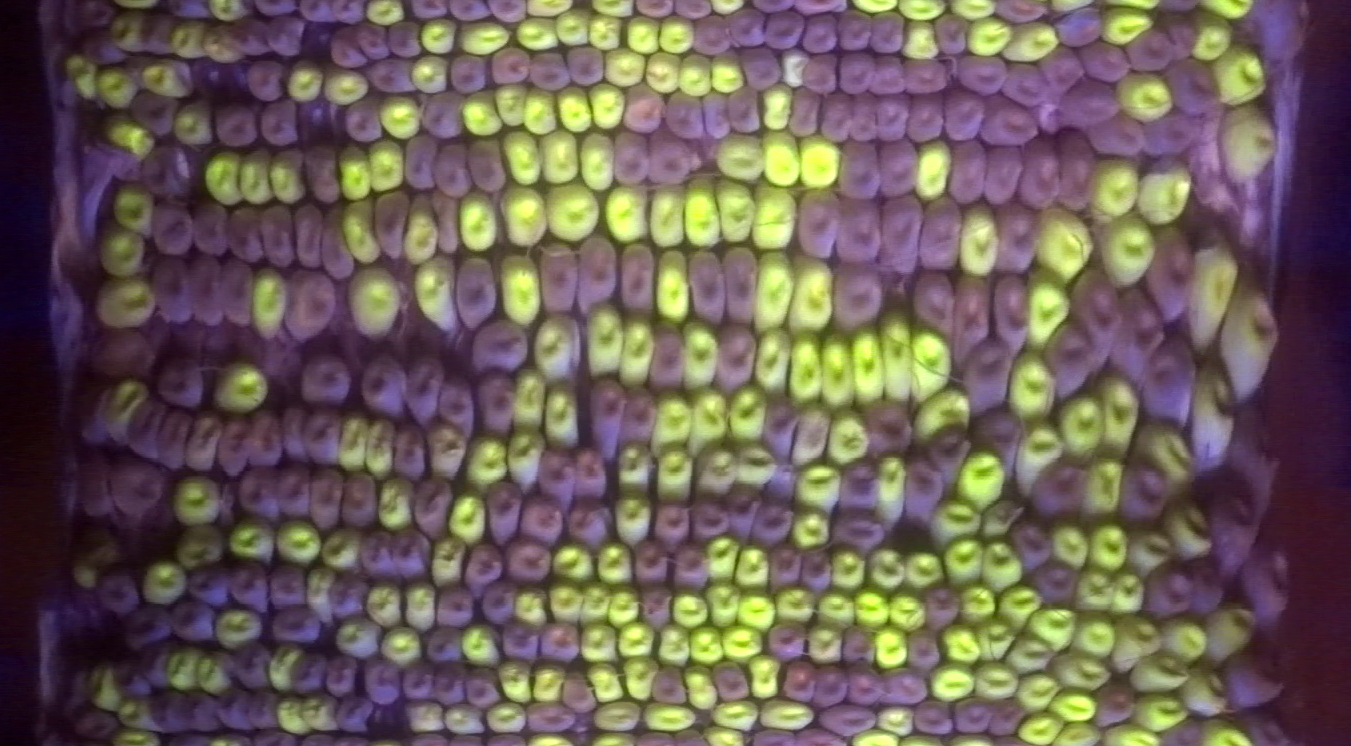fluorescent: (1189, 234, 1235, 351), (1232, 289, 1276, 403), (1038, 207, 1088, 283), (1194, 371, 1235, 461), (348, 266, 397, 337), (1140, 159, 1193, 222), (1227, 110, 1273, 181), (1106, 218, 1152, 288), (413, 260, 457, 332), (1098, 376, 1136, 457), (1009, 356, 1056, 416), (71, 530, 121, 586), (1027, 270, 1061, 350), (796, 254, 830, 334), (1147, 427, 1194, 483), (535, 315, 576, 379), (500, 255, 539, 322), (218, 364, 267, 416), (548, 190, 599, 239), (1019, 428, 1058, 492), (1061, 399, 1104, 457), (1113, 616, 1160, 669), (499, 191, 545, 245), (1115, 74, 1170, 119), (913, 392, 970, 435), (1206, 608, 1256, 657), (1216, 51, 1263, 103), (99, 282, 153, 327), (756, 182, 793, 247), (1166, 506, 1213, 557), (587, 304, 620, 376), (913, 333, 951, 395), (884, 318, 912, 401), (959, 457, 1007, 505), (650, 392, 688, 452), (683, 321, 716, 390), (851, 334, 884, 403), (1096, 159, 1136, 215), (683, 178, 715, 247), (99, 226, 142, 276), (759, 255, 788, 329), (960, 206, 992, 272), (789, 337, 821, 402), (173, 480, 222, 522), (342, 205, 379, 260), (660, 251, 689, 321), (764, 131, 798, 190), (719, 136, 764, 180), (822, 341, 852, 407), (108, 379, 144, 434), (933, 502, 978, 546), (114, 187, 155, 235), (365, 140, 402, 193), (828, 414, 867, 464), (1183, 671, 1233, 710), (545, 387, 578, 445), (801, 133, 837, 186), (255, 268, 283, 336), (607, 189, 645, 239), (504, 131, 539, 185), (877, 456, 904, 526), (755, 333, 788, 390), (731, 388, 764, 445), (1128, 659, 1185, 692), (460, 196, 494, 251), (652, 188, 684, 246), (983, 540, 1023, 586), (582, 132, 614, 189), (405, 203, 437, 260), (1104, 8, 1153, 45), (799, 469, 842, 511), (719, 183, 751, 239), (1086, 461, 1118, 517), (544, 133, 579, 184), (916, 144, 949, 198), (277, 520, 321, 560), (103, 113, 145, 154), (339, 147, 371, 200), (1006, 24, 1053, 60), (692, 394, 725, 445), (208, 153, 243, 201), (623, 317, 648, 384), (377, 481, 413, 527), (323, 64, 365, 103), (1163, 622, 1205, 661), (1030, 611, 1073, 649), (660, 449, 692, 500), (1133, 698, 1187, 728), (508, 436, 539, 488), (516, 371, 542, 432), (967, 20, 1011, 56), (144, 64, 192, 97), (271, 151, 302, 202), (337, 615, 375, 656), (1193, 16, 1230, 58), (682, 667, 719, 709), (237, 520, 273, 563), (739, 589, 775, 632), (620, 444, 652, 492), (243, 154, 273, 205), (470, 436, 503, 482), (325, 523, 358, 569), (795, 507, 832, 548), (521, 89, 557, 131), (928, 666, 972, 700), (1054, 523, 1087, 568), (175, 103, 214, 141), (555, 548, 593, 587), (586, 663, 624, 702), (830, 553, 867, 593), (338, 416, 367, 467), (1074, 622, 1115, 658), (383, 94, 418, 136), (616, 498, 651, 540), (403, 700, 445, 735), (705, 581, 739, 624), (115, 701, 162, 732), (871, 545, 904, 589), (458, 24, 508, 53), (367, 419, 392, 477), (598, 544, 633, 585), (855, 590, 890, 631), (497, 663, 532, 704), (466, 94, 500, 136), (98, 68, 134, 107), (905, 550, 944, 586), (144, 560, 179, 600), (644, 702, 694, 730), (559, 86, 590, 131), (1090, 526, 1123, 568), (941, 626, 979, 662), (738, 544, 767, 591), (590, 87, 624, 127), (719, 626, 761, 658), (1007, 638, 1050, 669), (736, 447, 773, 483), (463, 626, 499, 663), (111, 13, 146, 51), (217, 614, 262, 643), (947, 548, 983, 584), (960, 589, 995, 626), (582, 625, 619, 660), (606, 50, 644, 84), (454, 496, 484, 539), (1049, 691, 1098, 717), (999, 590, 1040, 621), (885, 593, 921, 628), (1017, 715, 1059, 745), (747, 658, 780, 696), (713, 53, 745, 92), (515, 588, 547, 627), (367, 587, 399, 626), (516, 19, 557, 49), (69, 57, 99, 98), (1080, 573, 1114, 609), (777, 589, 813, 623), (660, 622, 689, 664), (678, 57, 710, 95), (433, 538, 464, 577), (278, 700, 312, 735), (493, 86, 525, 123), (1115, 574, 1142, 617), (761, 87, 790, 127), (976, 664, 1016, 693), (550, 584, 583, 619), (305, 695, 338, 730), (818, 594, 854, 626), (763, 701, 811, 725), (407, 581, 433, 625), (647, 57, 680, 91), (979, 625, 1012, 659), (421, 20, 452, 56), (266, 649, 297, 685), (616, 624, 653, 654), (413, 59, 447, 91), (533, 666, 565, 700), (207, 25, 237, 61), (661, 16, 691, 52), (1136, 535, 1165, 572), (875, 630, 904, 667), (169, 651, 197, 689), (288, 68, 321, 100), (384, 630, 417, 662), (907, 21, 938, 55), (689, 630, 723, 661), (810, 625, 841, 659), (627, 18, 657, 53), (1020, 678, 1056, 707), (1200, 725, 1252, 745), (713, 704, 754, 729), (625, 659, 652, 696), (712, 538, 735, 580), (200, 655, 223, 697), (175, 18, 200, 56), (485, 704, 523, 729), (674, 595, 709, 622), (1107, 725, 1158, 743), (590, 16, 620, 46), (611, 590, 639, 622), (700, 725, 744, 745), (596, 704, 636, 726), (879, 707, 912, 733), (898, 1, 943, 20), (559, 14, 586, 45), (582, 585, 604, 622), (447, 707, 483, 729), (95, 668, 116, 705), (311, 570, 330, 610), (112, 731, 161, 746), (366, 1, 402, 21), (1053, 729, 1104, 743), (1205, 1, 1250, 16), (951, 1, 994, 16), (591, 2, 632, 17), (593, 729, 631, 745), (852, 732, 898, 745), (210, 2, 245, 19), (528, 2, 564, 16), (853, 1, 895, 13), (529, 733, 568, 745), (710, 1, 741, 12)
nonfluorescent: (1236, 403, 1284, 499), (1121, 278, 1163, 373), (962, 335, 1010, 414), (110, 455, 167, 521), (88, 324, 158, 377), (833, 195, 886, 263), (1213, 476, 1253, 566), (1060, 127, 1101, 212), (1153, 227, 1190, 321), (287, 270, 336, 340), (1245, 547, 1295, 615), (454, 254, 501, 326), (793, 183, 838, 258), (352, 357, 406, 418), (686, 247, 727, 327), (993, 273, 1035, 351), (836, 266, 888, 329), (539, 239, 583, 313), (953, 273, 994, 352), (297, 351, 353, 408), (1151, 340, 1188, 426), (1083, 271, 1123, 349), (919, 198, 961, 272), (1229, 652, 1284, 708), (579, 232, 619, 308), (982, 90, 1036, 146), (726, 246, 766, 320), (475, 320, 528, 375), (881, 196, 919, 272), (70, 449, 113, 516), (1171, 58, 1221, 114), (142, 143, 191, 200), (1143, 112, 1201, 160), (188, 257, 226, 329), (996, 203, 1035, 273), (648, 321, 684, 395), (864, 403, 912, 458), (716, 325, 755, 392), (837, 141, 882, 199), (400, 353, 434, 429), (1053, 327, 1094, 390), (158, 358, 208, 409), (226, 642, 279, 690), (900, 463, 941, 525), (1145, 562, 1190, 618), (988, 140, 1025, 208), (466, 138, 510, 195), (949, 139, 986, 206), (1062, 83, 1121, 125), (485, 479, 523, 544), (1087, 116, 1143, 160), (153, 256, 188, 326), (1023, 138, 1059, 206), (1119, 469, 1165, 522), (473, 369, 511, 433), (306, 145, 347, 204), (619, 241, 655, 308), (151, 200, 194, 256), (973, 407, 1021, 457), (411, 477, 451, 537), (591, 378, 621, 456), (435, 584, 487, 629), (292, 199, 324, 272), (840, 460, 883, 514), (214, 414, 249, 480), (1039, 465, 1081, 520), (277, 463, 316, 522), (236, 471, 282, 521), (941, 89, 984, 142), (499, 542, 553, 584), (227, 203, 264, 264), (341, 465, 375, 531), (650, 134, 693, 186), (613, 130, 651, 188), (48, 664, 92, 714), (321, 206, 351, 279), (191, 202, 230, 258), (882, 141, 919, 200), (623, 381, 655, 449), (225, 559, 266, 612), (1032, 560, 1079, 606), (558, 503, 612, 543), (1083, 38, 1132, 82), (259, 96, 301, 147), (404, 130, 438, 193), (262, 203, 296, 266), (1191, 558, 1227, 617), (918, 272, 958, 325), (1126, 27, 1172, 73), (532, 617, 579, 662), (873, 91, 913, 143), (211, 104, 259, 147), (313, 464, 344, 530), (1054, 7, 1105, 47), (223, 260, 253, 328), (433, 377, 472, 429), (927, 428, 971, 474), (358, 652, 401, 699), (435, 139, 471, 195), (368, 57, 421, 95), (907, 90, 944, 144), (573, 448, 610, 502), (537, 448, 574, 502), (389, 529, 428, 580), (630, 541, 674, 586), (877, 668, 929, 706), (97, 569, 139, 616), (246, 410, 281, 466), (303, 410, 339, 464), (685, 501, 732, 542), (377, 190, 403, 264), (814, 703, 876, 734), (905, 55, 953, 95), (626, 83, 665, 132), (665, 91, 704, 140), (797, 12, 840, 56), (393, 424, 428, 478), (266, 566, 308, 611), (867, 10, 908, 56), (75, 382, 104, 447), (271, 608, 323, 644), (807, 668, 849, 712), (1009, 63, 1050, 108), (133, 91, 174, 136), (344, 96, 384, 142), (159, 407, 185, 477), (761, 8, 803, 51), (741, 49, 784, 91), (727, 86, 761, 139), (819, 91, 853, 144), (727, 6, 767, 51), (423, 93, 463, 138), (766, 396, 791, 468), (172, 602, 219, 640), (1011, 521, 1048, 569), (131, 397, 159, 460), (188, 564, 230, 606), (1161, 12, 1199, 58), (757, 499, 793, 547), (711, 664, 753, 705), (451, 51, 490, 95), (902, 625, 940, 670), (290, 651, 326, 698), (523, 701, 574, 734), (1237, 717, 1295, 746), (230, 14, 270, 56), (264, 16, 304, 58), (766, 621, 808, 661), (149, 686, 184, 734), (532, 47, 570, 91), (523, 495, 557, 544), (723, 487, 755, 539), (959, 55, 1005, 91), (79, 29, 126, 64), (1092, 683, 1133, 723), (566, 44, 605, 86), (460, 542, 499, 584), (766, 544, 805, 586), (183, 686, 217, 734), (329, 572, 366, 616), (492, 47, 532, 87), (500, 618, 540, 658), (324, 28, 362, 70), (930, 13, 967, 56), (251, 60, 288, 103), (651, 503, 688, 546), (427, 661, 464, 704), (362, 529, 392, 582), (788, 90, 819, 141), (324, 652, 358, 698), (671, 548, 711, 587), (462, 665, 500, 706), (949, 699, 992, 735), (836, 7, 871, 51), (836, 516, 885, 547), (436, 195, 461, 255), (124, 609, 172, 640), (112, 658, 152, 695), (1045, 48, 1081, 89), (921, 587, 962, 623), (838, 622, 874, 663), (279, 403, 303, 464), (427, 629, 470, 663), (702, 90, 730, 142), (141, 11, 174, 55), (911, 703, 955, 736), (70, 1, 119, 30), (845, 664, 878, 707), (73, 710, 123, 738), (244, 690, 279, 730), (216, 686, 245, 734), (872, 55, 905, 97), (805, 52, 840, 91), (480, 584, 515, 623), (652, 662, 687, 701), (639, 589, 673, 629), (402, 663, 436, 703), (801, 547, 832, 589), (563, 669, 594, 711), (335, 699, 374, 732), (784, 660, 812, 705), (988, 699, 1021, 737), (696, 15, 727, 55), (389, 18, 419, 59), (840, 52, 869, 94), (358, 24, 388, 64), (993, 1, 1047, 22), (140, 644, 168, 683), (851, 93, 873, 142), (1162, 718, 1199, 746), (450, 1, 492, 24), (411, 1, 453, 23), (165, 1, 211, 20), (489, 1, 526, 24)
